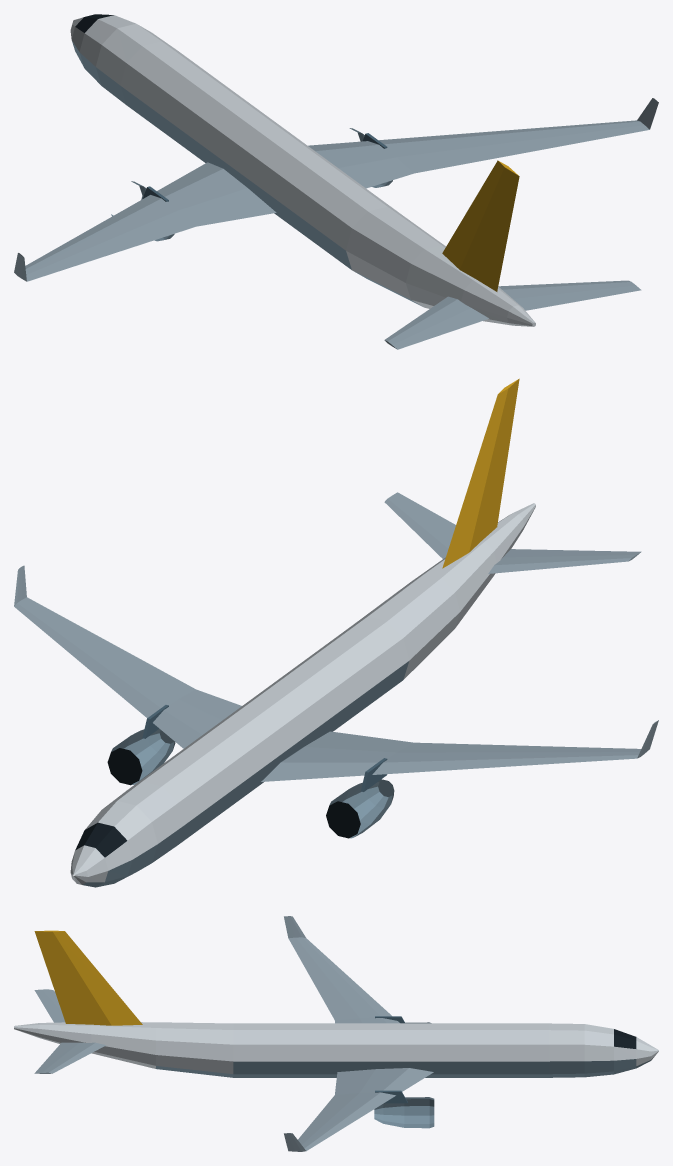
3 views of the same model, one above another, from view 1: azimuth 30°, elevation 25°; view 2: azimuth 150°, elevation 25°; view 3: azimuth 270°, elevation 25° (orthographic). The views are drawn at different scales.
Parts seen in each view (by area): view 1: lod0; view 2: lod0; view 3: lod0.
Part boxes in pixels (x1,y1,x2,y2): lod0: (14, 14, 658, 349); lod0: (14, 378, 658, 887); lod0: (14, 916, 658, 1151).
Size of what is drawn, in the model's own units: 0.7958 by 0.2698 by 1.
